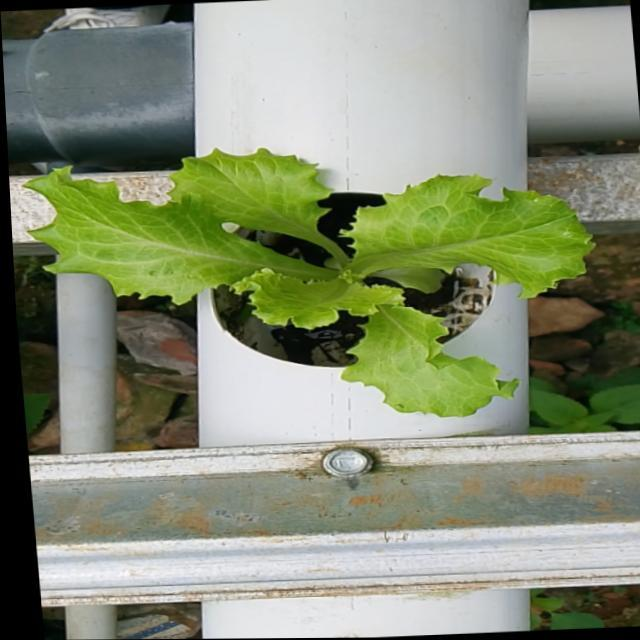Baby: (30, 153, 600, 420)
